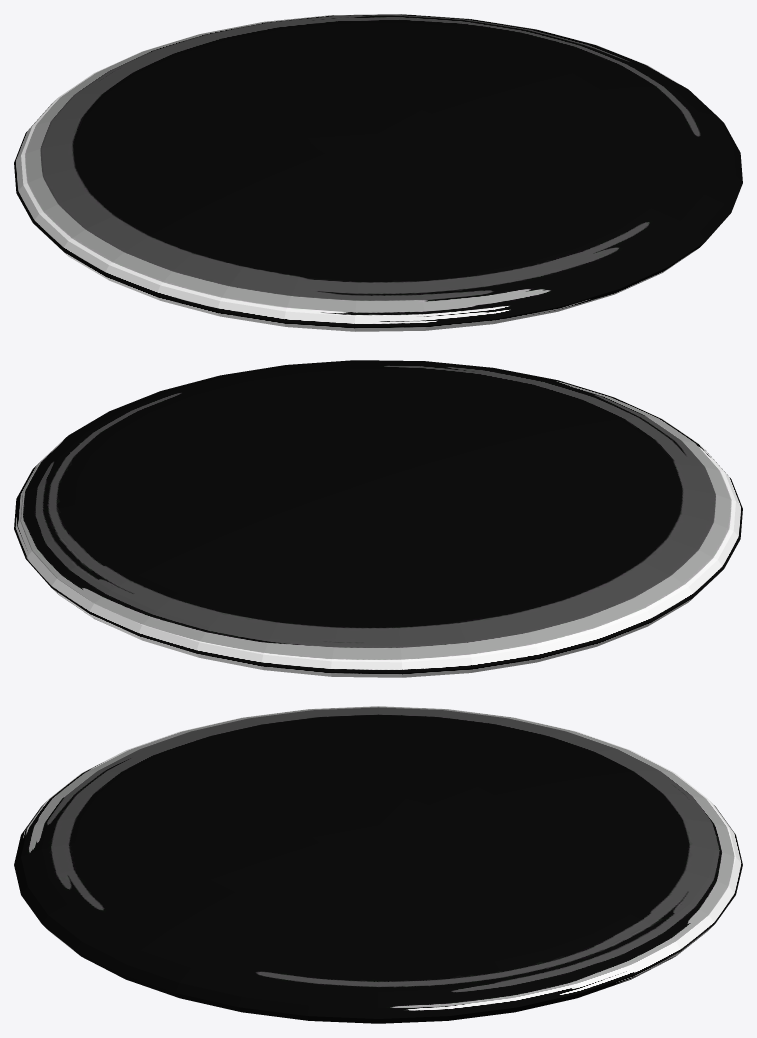
File: Slash.obj
The picture shows the model from 3 angles, top to bottom: view 1: azimuth 30°, elevation 25°; view 2: azimuth 150°, elevation 25°; view 3: azimuth 270°, elevation 25°; orthographic projection.
Visible parts, largest first — view 1: Part1; view 2: Part1; view 3: Part1.
Boxes of the visible parts, <box> form: Part1: <box>14,14,742,331</box>; Part1: <box>14,360,742,677</box>; Part1: <box>14,706,742,1023</box>.
Bounding box in the file's own units: 10 × 1.2 × 10.
Materials: 1 (1 with a texture image).
